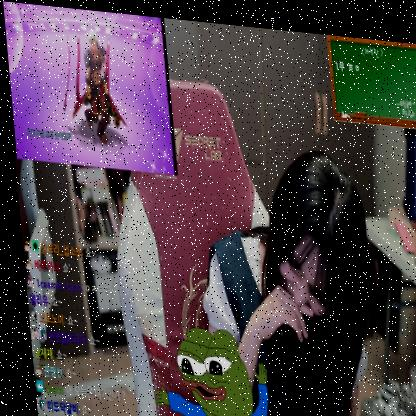donation: (0, 0, 176, 178)
streamer: (180, 129, 377, 416)
